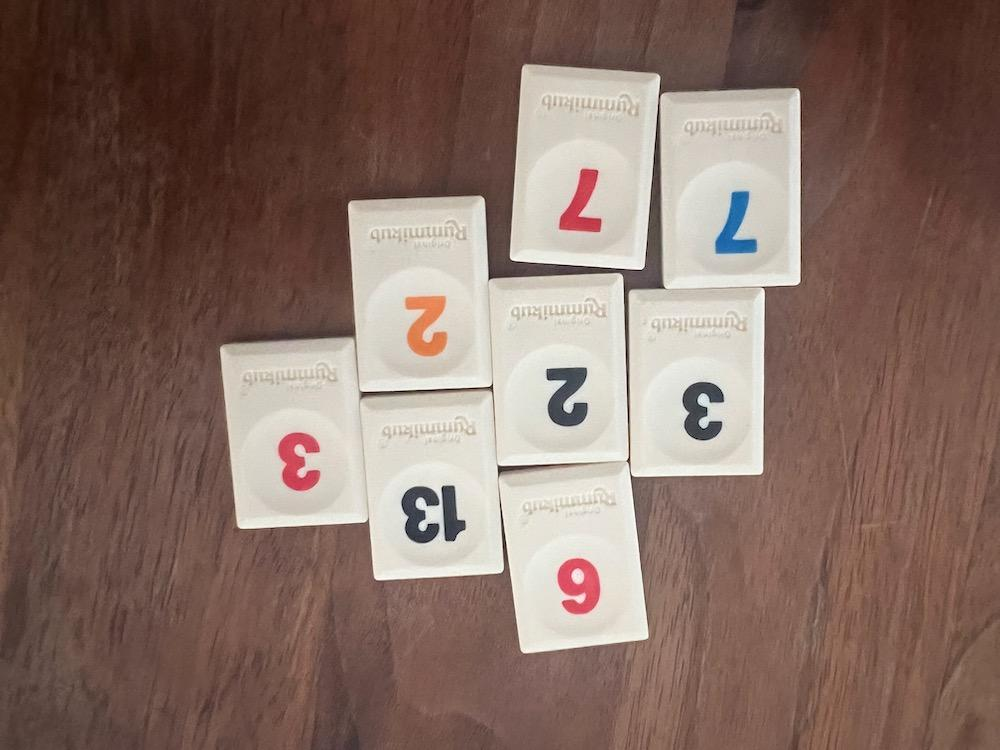black_13: (361, 391, 504, 580)
black_2: (491, 273, 629, 467)
black_3: (629, 289, 764, 475)
blue_7: (662, 88, 801, 285)
orange_2: (350, 195, 492, 393)
red_3: (221, 338, 366, 529)
red_6: (500, 461, 648, 652)
red_7: (510, 64, 660, 270)
